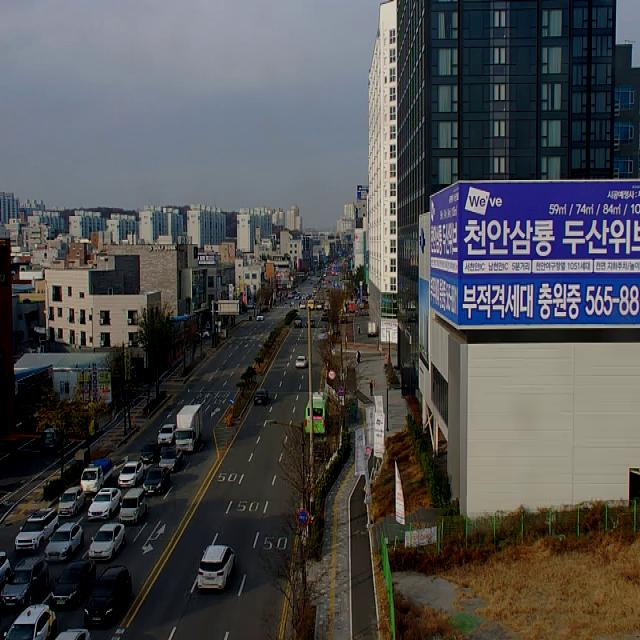Bus: (304, 392, 328, 434)
Car: (84, 566, 131, 626), (0, 556, 49, 610), (50, 560, 96, 608), (4, 603, 56, 640), (15, 508, 58, 551), (198, 544, 235, 590), (45, 523, 83, 561), (89, 523, 125, 561), (80, 458, 112, 494), (88, 488, 121, 520), (120, 488, 146, 524), (143, 466, 170, 496), (58, 487, 84, 517), (118, 462, 143, 487), (40, 427, 66, 451), (159, 448, 183, 472), (140, 441, 160, 464), (158, 424, 176, 446), (54, 629, 90, 640), (0, 552, 10, 584), (254, 389, 268, 405), (295, 356, 308, 368), (197, 329, 210, 338), (294, 318, 302, 328), (305, 320, 315, 328), (257, 315, 265, 321)
Truck: (176, 404, 202, 451), (368, 319, 379, 336)
